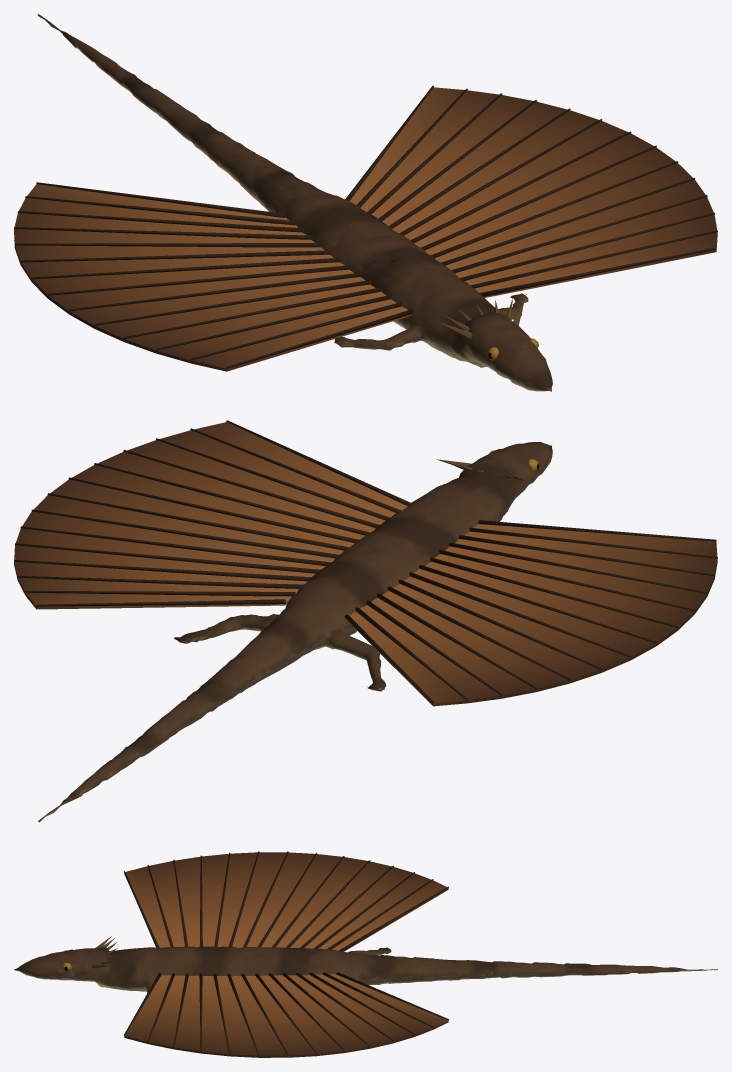
Rendered from Coelurosauravus.fbx.
The picture shows the model from 3 angles, top to bottom: view 1: azimuth 30°, elevation 25°; view 2: azimuth 150°, elevation 25°; view 3: azimuth 270°, elevation 25°; orthographic projection. The views are drawn at different scales.
Parts seen in each view (by area): view 1: Coelurosauravus; view 2: Coelurosauravus; view 3: Coelurosauravus.
Part boxes in pixels (x1=…): Coelurosauravus: x1=14, y1=14, x2=717, y2=391; Coelurosauravus: x1=14, y1=420, x2=717, y2=822; Coelurosauravus: x1=14, y1=851, x2=717, y2=1057.
Size of the model in its own units: 1.09 by 0.1027 by 1.59.
